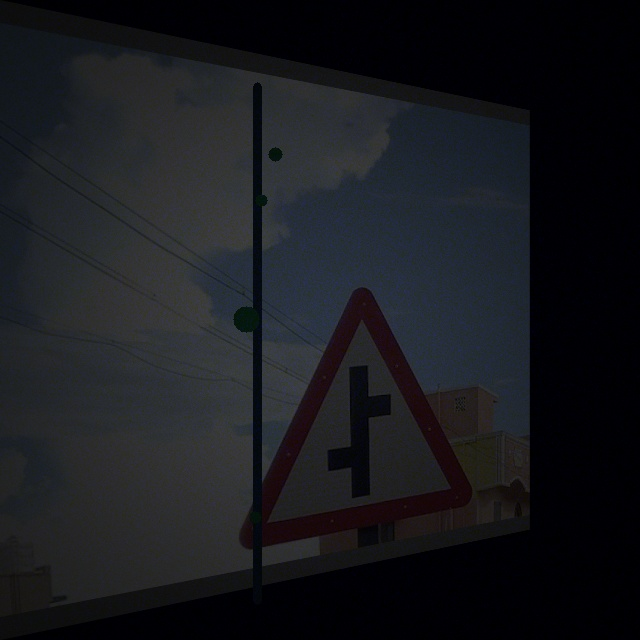Staggered_Intersection: (229, 262, 471, 557)
